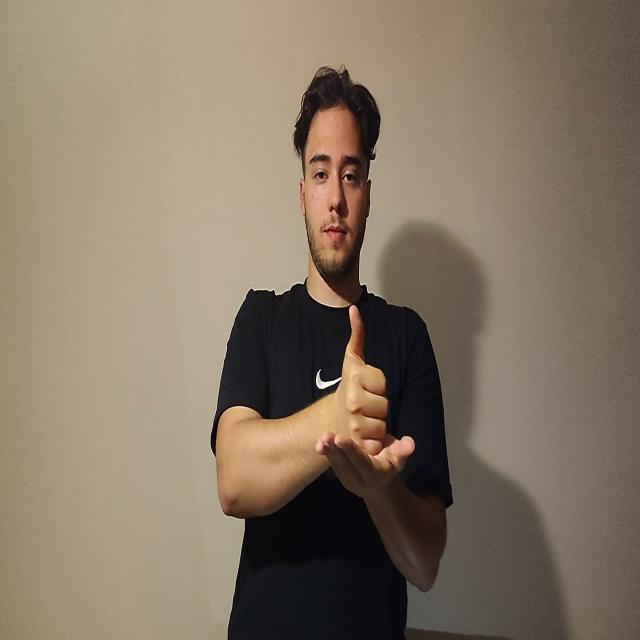help: (315, 303, 416, 489)
